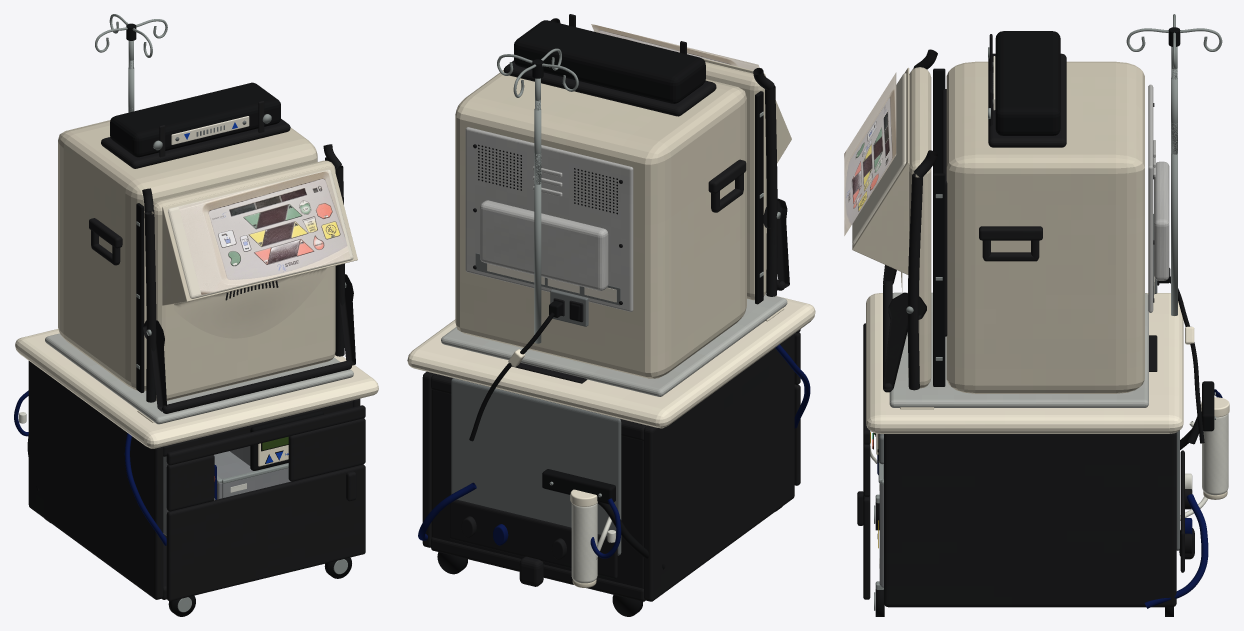
File: nxstage-system-one.glb
The picture shows the model from 3 angles, left to right: view 1: azimuth 30°, elevation 25°; view 2: azimuth 150°, elevation 25°; view 3: azimuth 270°, elevation 25°; orthographic projection. The views are drawn at different scales.
Parts seen in each view (by area): view 1: Upper machine shell, Cabinet left wall, Cabinet door lower panel, Cycler door front shell, Photo-derived control fascia, Upper white shelf, Upper accessory soft case, Central recessed face, Cycler molded support base, Cabinet door right stile, Inclined cycler fascia housing, Cabinet door upper rail (+15 smaller); view 2: Upper machine shell, Cabinet left wall, Rear gray service cover, Cycler rear service panel, Upper white shelf, Upper accessory soft case, Cycler rear raised enclosure, Cabinet rear wall, Cycler molded support base, Rear lower port panel, Cycler door front shell, Upper accessory platform (+22 smaller); view 3: Upper machine shell, Cabinet right wall, Upper white shelf, Upper accessory soft case, Cycler molded support base, Cycler door front shell, Photo-derived control fascia, Inclined cycler fascia housing, Cycler right side guide channel, Vertical black side rail.001, System One control fascia, Upper accessory platform (+15 smaller).
Boxes of the visible parts, x1,y1,x2,y2 form: Upper machine shell: (58,120,317,390); Cabinet left wall: (28,361,163,599); Cabinet door lower panel: (166,464,365,601); Cycler door front shell: (151,160,335,400); Photo-derived control fascia: (178,170,350,295); Upper white shelf: (15,329,378,448); Upper accessory soft case: (110,82,280,157); Central recessed face: (174,264,340,338); Cycler molded support base: (45,333,353,424); Cabinet door right stile: (288,418,365,481); Inclined cycler fascia housing: (162,165,357,305); Cabinet door upper rail: (166,405,365,465); Upper machine shell: (455,70,746,378); Cabinet left wall: (644,333,794,601); Rear gray service cover: (451,378,621,555); Cycler rear service panel: (465,127,633,311); Upper white shelf: (407,296,815,428); Upper accessory soft case: (514,20,705,103); Cycler rear raised enclosure: (480,200,608,290); Cabinet rear wall: (431,373,647,588); Cycler molded support base: (441,294,787,396); Rear lower port panel: (450,499,617,578); Cycler door front shell: (705,62,766,300); Upper accessory platform: (503,60,716,116); Upper machine shell: (946,61,1144,393); Cabinet right wall: (884,432,1176,607); Upper white shelf: (866,293,1183,433); Upper accessory soft case: (995,31,1060,135); Cycler molded support base: (889,292,1148,407); Cycler door front shell: (908,67,931,388); Photo-derived control fascia: (844,72,896,235); Inclined cycler fascia housing: (852,67,909,274); Cycler right side guide channel: (933,173,945,386); Vertical black side rail.001: (907,173,922,390); System One control fascia: (852,73,909,245); Upper accessory platform: (988,53,1066,147).
Size of the model in its own units: 0.4841 by 0.9301 by 0.5976.
Materials: 19 (19 with a texture image).
